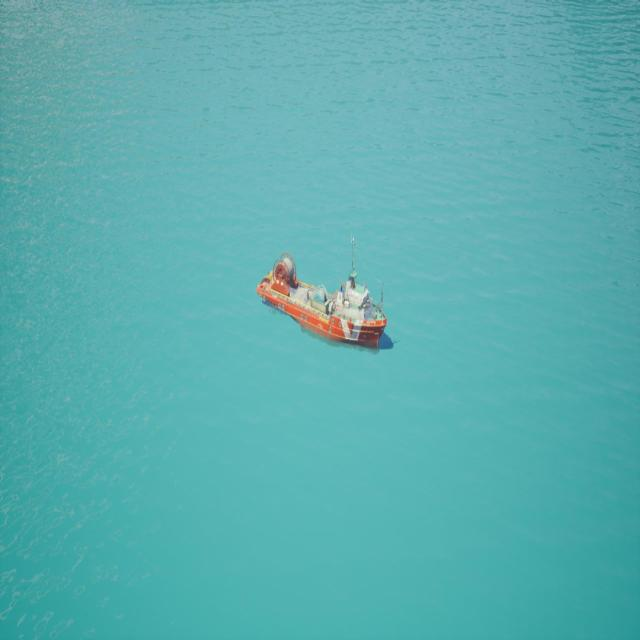tug boat: (252, 211, 398, 371)
